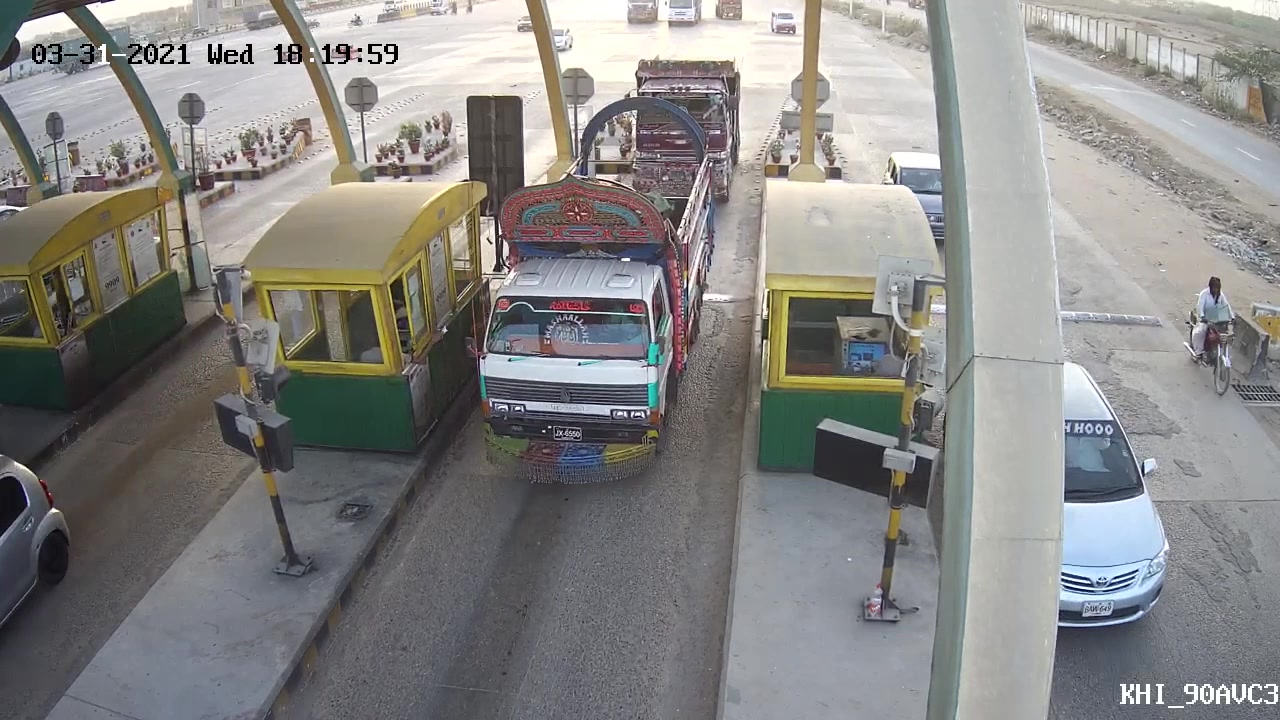F5: (463, 117, 717, 503)
